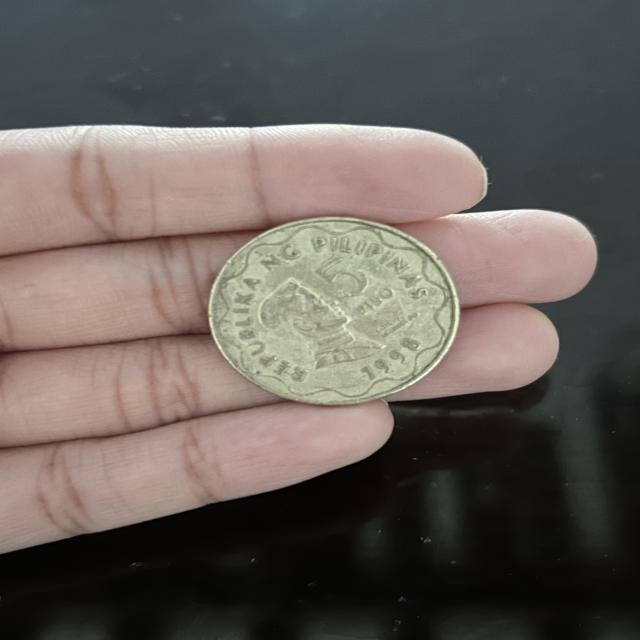5_Old_Front: (202, 208, 464, 408)
